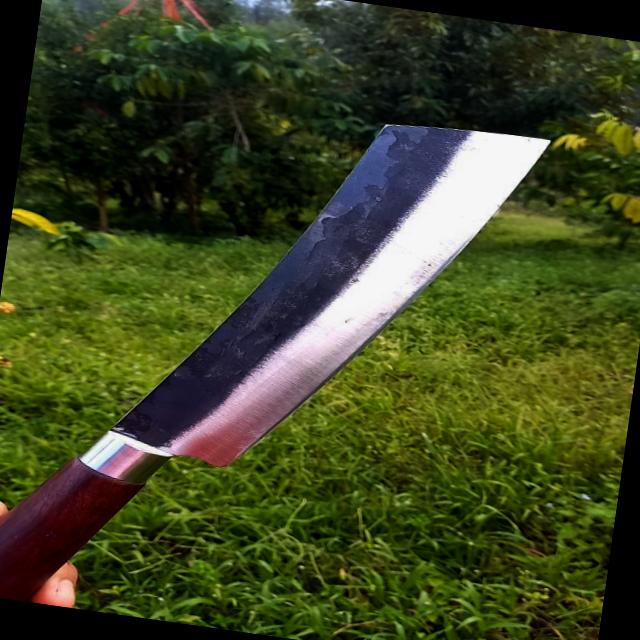eto: (0, 115, 573, 609)
